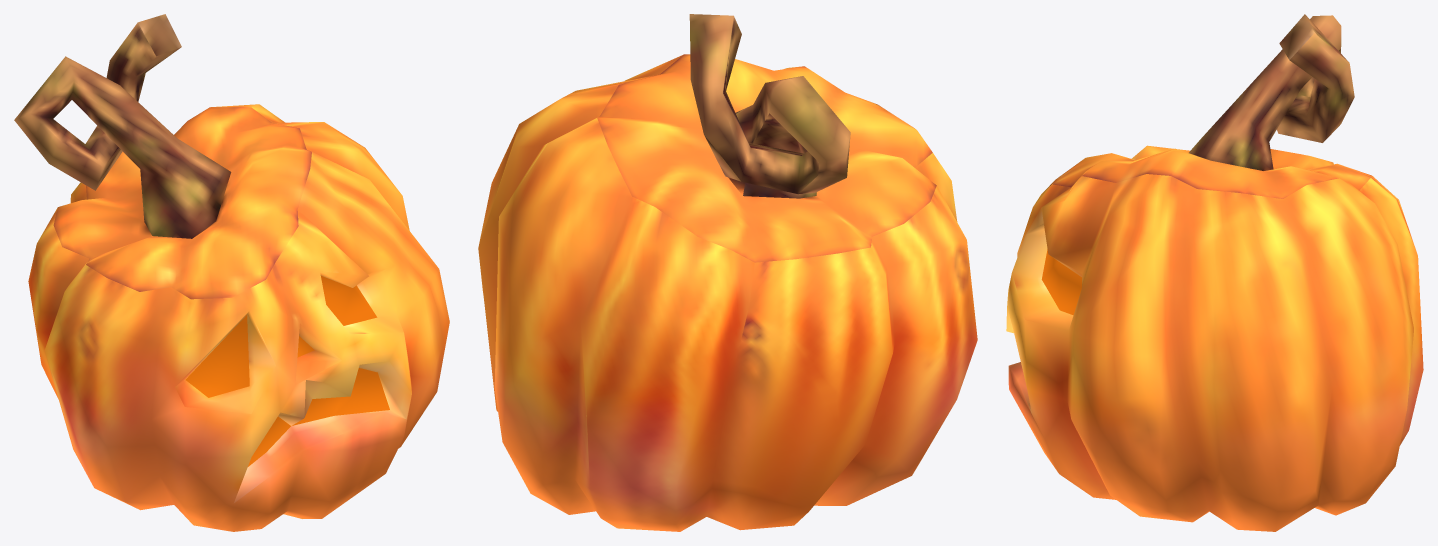
File: CarvedPumpkin03.glb
The picture shows the model from 3 angles, left to right: view 1: azimuth 30°, elevation 25°; view 2: azimuth 150°, elevation 25°; view 3: azimuth 270°, elevation 25°; orthographic projection. The views are drawn at different scales.
Parts seen in each view (by area): view 1: CarvedPumpkin03; view 2: CarvedPumpkin03; view 3: CarvedPumpkin03.
Boxes of the visible parts, bbox=[...] form: CarvedPumpkin03: bbox=[14, 14, 449, 531]; CarvedPumpkin03: bbox=[478, 14, 977, 531]; CarvedPumpkin03: bbox=[1006, 14, 1423, 531].
Size of what is drawn, in the model's own units: 0.6013 by 0.6958 by 0.5886.
Materials: 2 (2 with a texture image).
